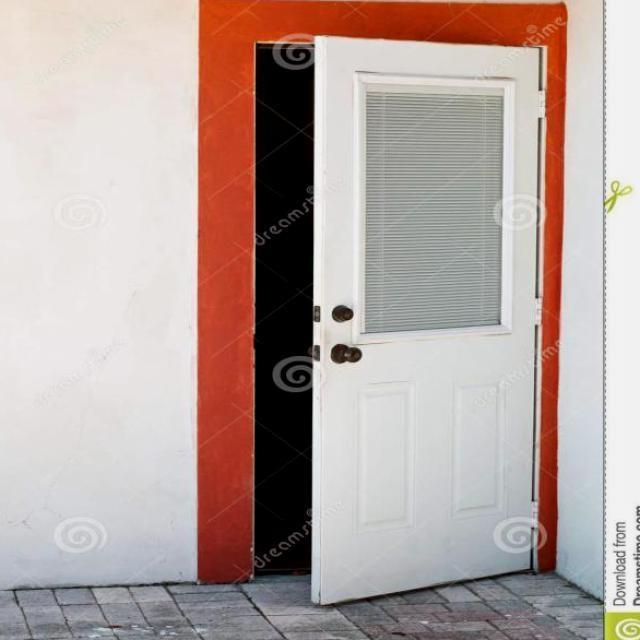door: (308, 34, 543, 605)
